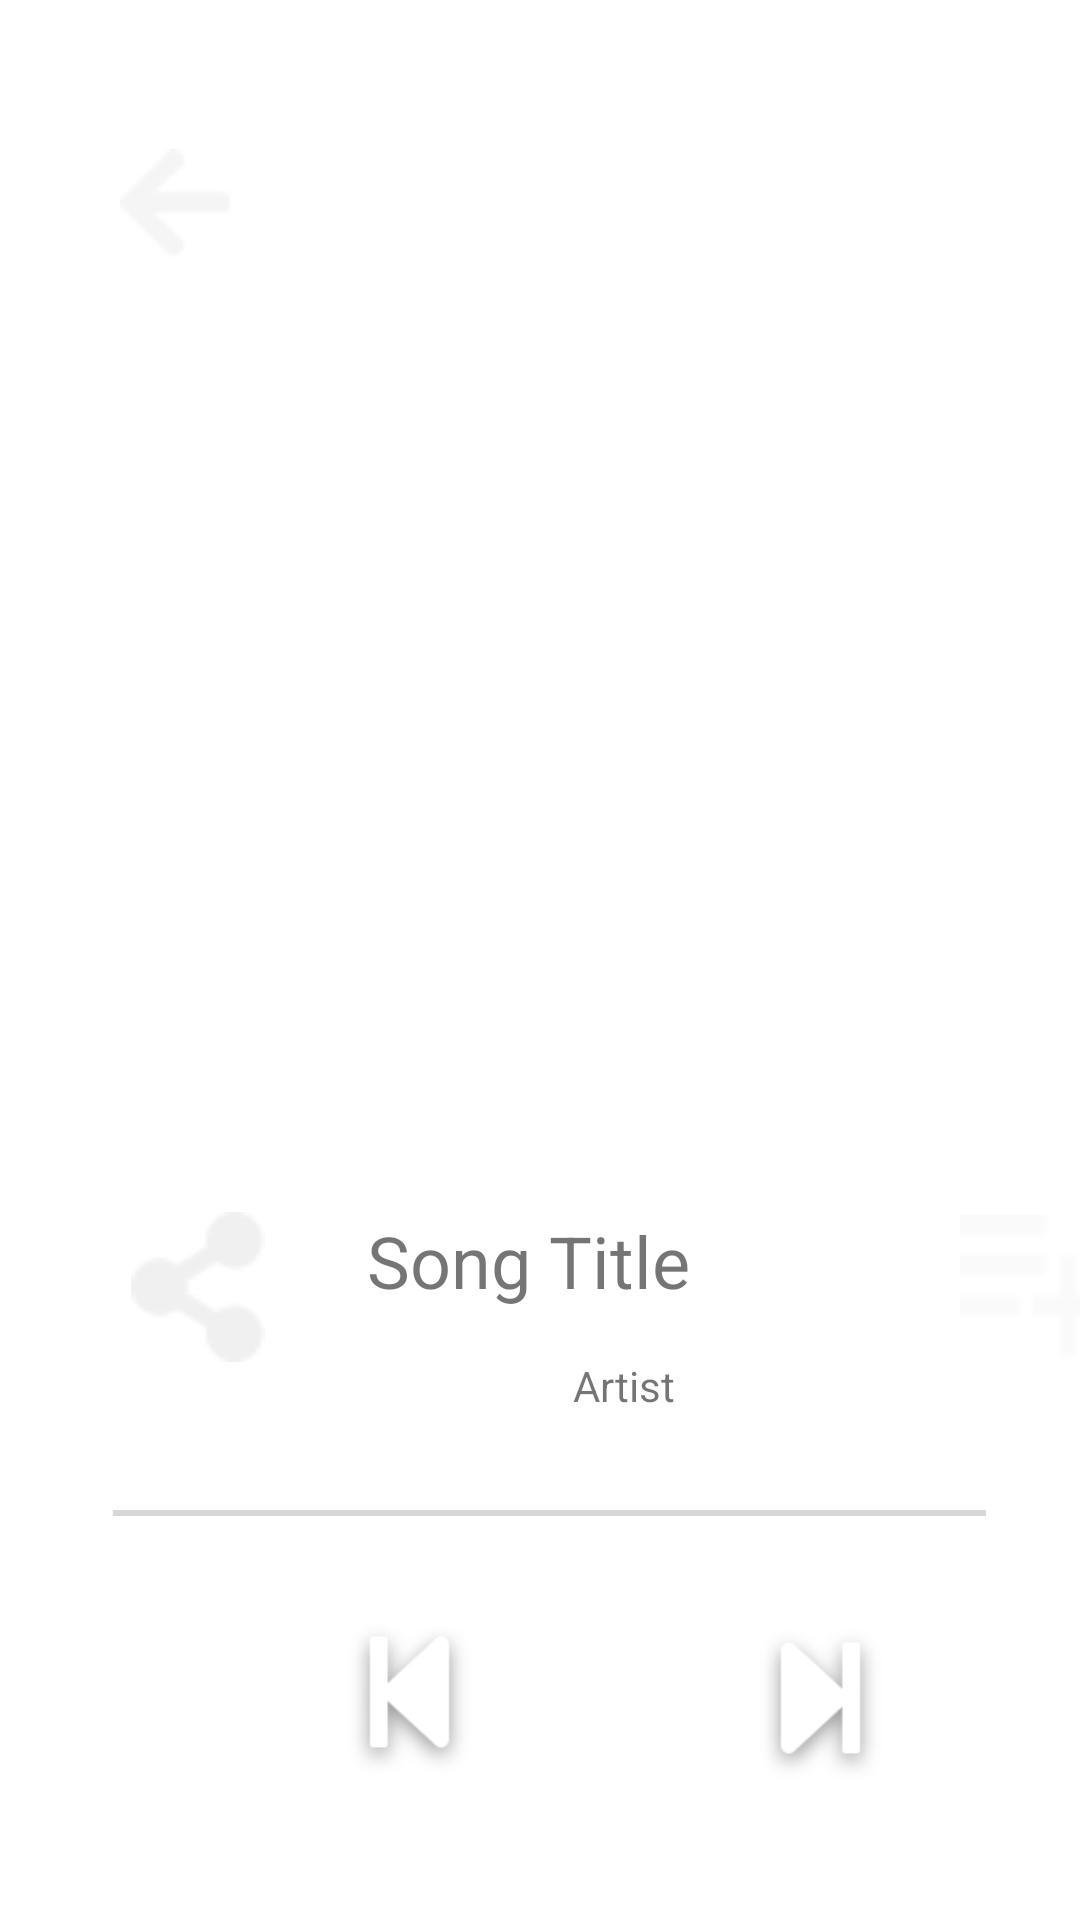

Named icons in this screenshot (1080px x 1920px) and their centers, point (x, y):
previous: point (409, 1701)
skip: point (820, 1707)
